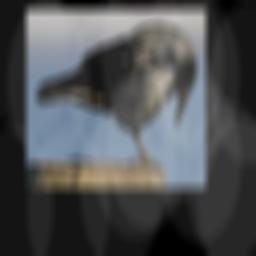Crow: (33, 22, 197, 183)
